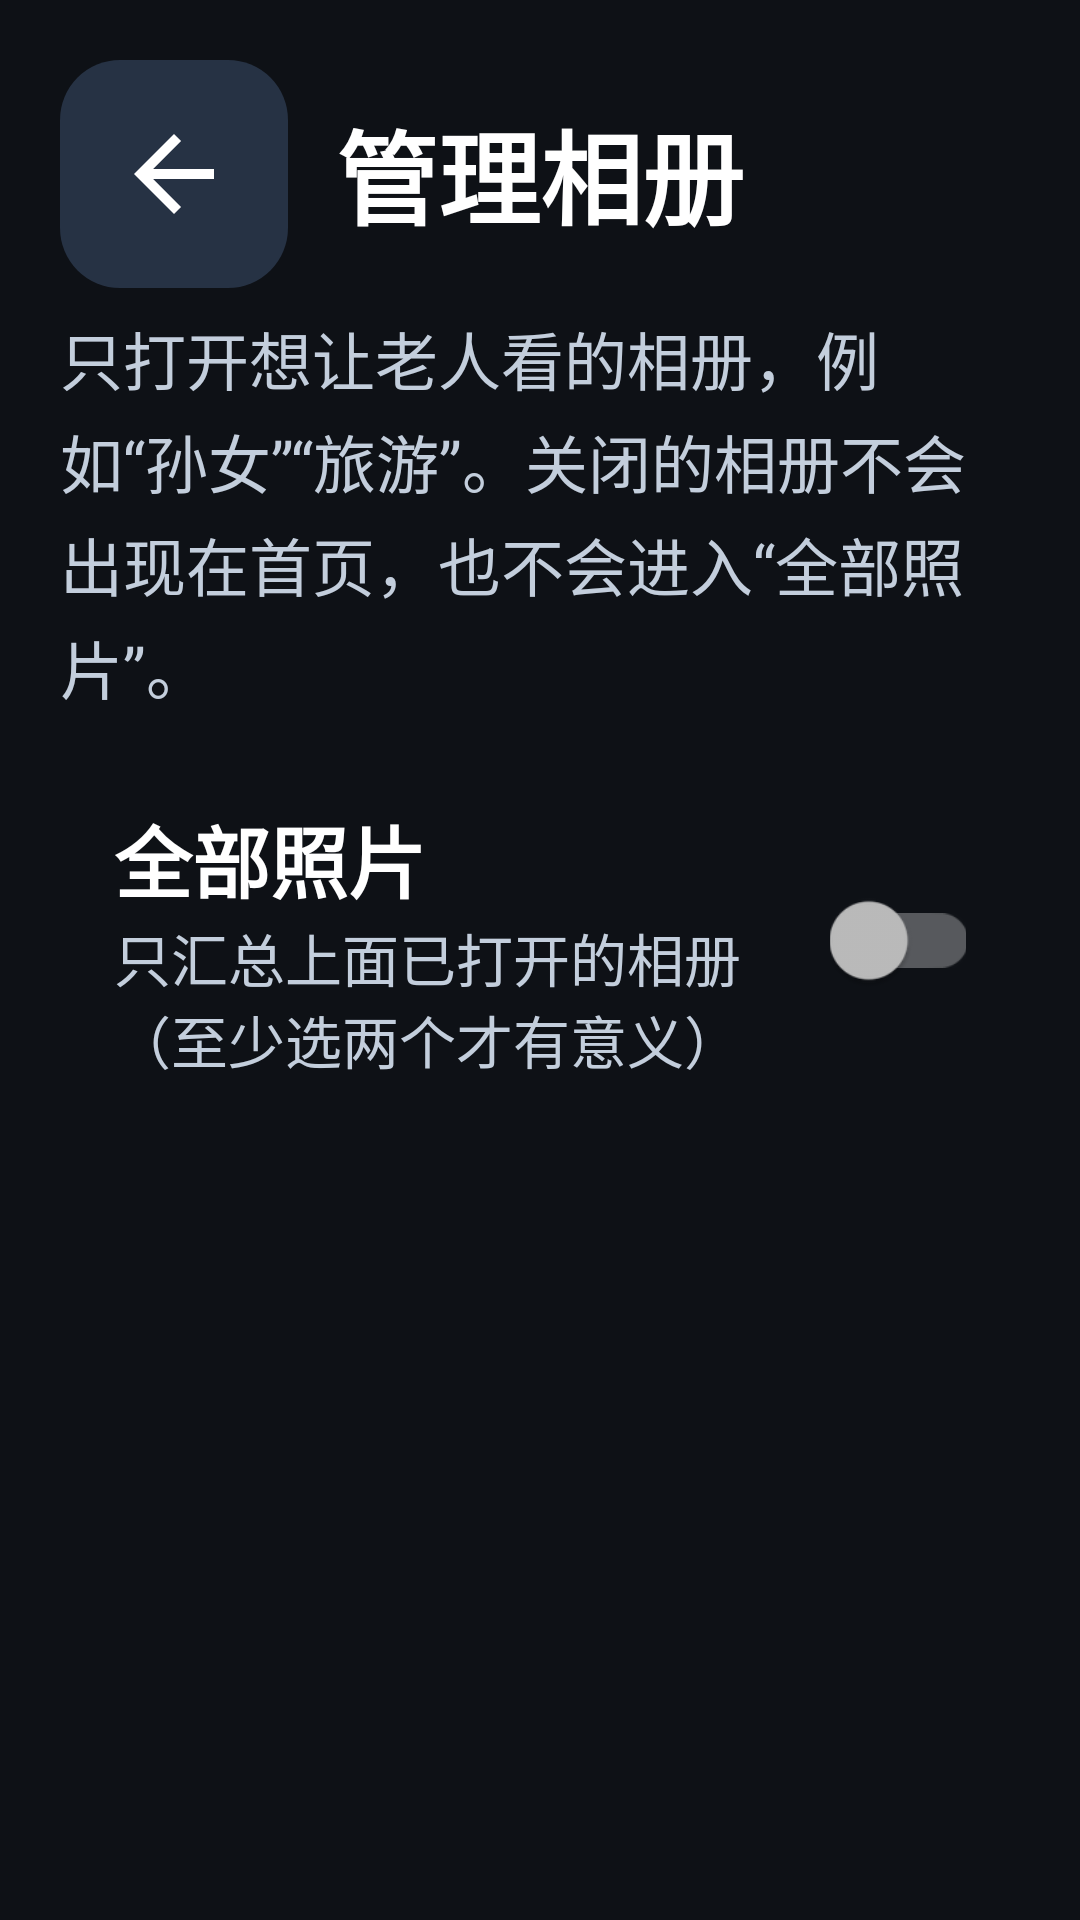

Icons on this 1080 x 1920 Android screen, each with the point to tap as point (x, y):
返回: point (174, 174)
